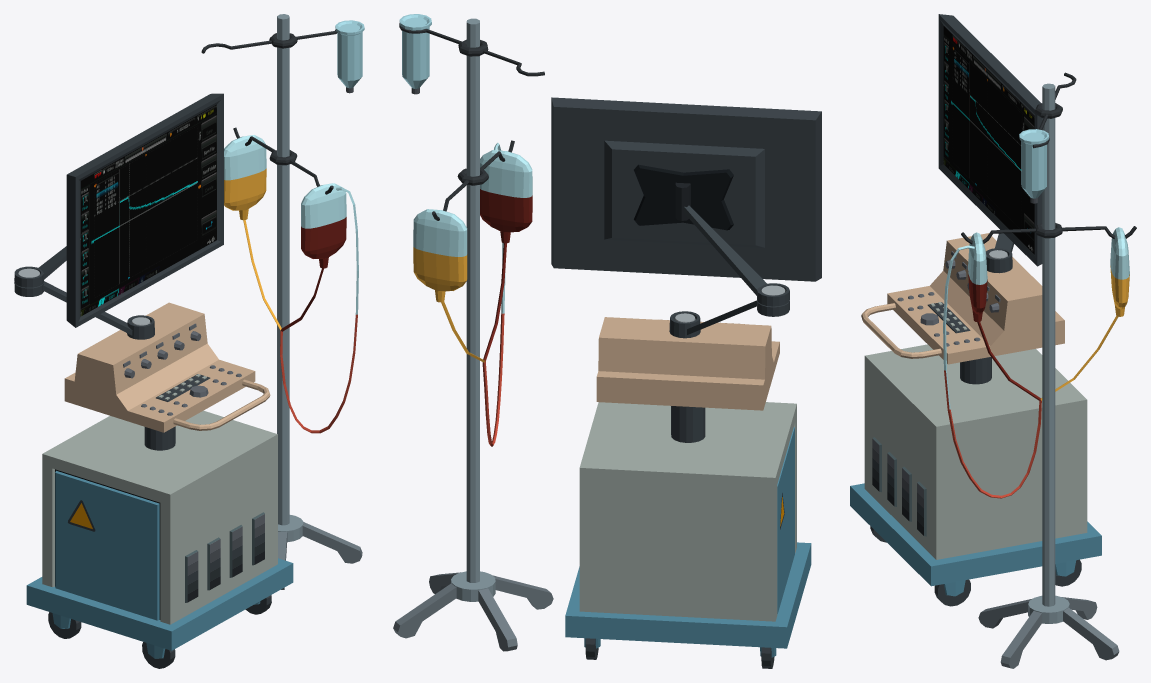
Rendered from medical.glb.
3 renders of one model, left to right at view 1: azimuth 30°, elevation 25°; view 2: azimuth 150°, elevation 25°; view 3: azimuth 270°, elevation 25°, orthographic. The views are drawn at different scales.
Parts seen in each view (by area): view 1: Cube.007, App_Monitor, Cube.008, Cylinder.026, Cube.006, Cube.052, Cube.018, Vert, Cylinder.027, Cube.017, Cylinder.012, Plane.001 (+4 smaller); view 2: App_Monitor, Cube.007, Cube.008, Cylinder.026, Cube.052, Cube.006, Cylinder.027, Cylinder.013, Vert, Cylinder.012, Cylinder.010, Circle (+2 smaller); view 3: Cube.007, App_Monitor, Cylinder.026, Cube.008, Cube.006, Cube.052, Vert, Cube.018, Cylinder.027, Cube.017, Circle.001, Plane.001 (+3 smaller).
Boxes of the visible parts, left/top/right/bottom form: Cube.007: left=42, top=410, right=277, bottom=624; App_Monitor: left=66, top=93, right=223, bottom=327; Cube.008: left=64, top=302, right=255, bottom=432; Cylinder.026: left=277, top=14, right=362, bottom=589; Cube.006: left=26, top=558, right=293, bottom=650; Cube.052: left=224, top=135, right=346, bottom=268; Cube.018: left=185, top=512, right=264, bottom=602; Vert: left=243, top=187, right=358, bottom=433; Cylinder.027: left=335, top=20, right=364, bottom=93; Cube.017: left=48, top=595, right=271, bottom=668; Cylinder.012: left=14, top=281, right=154, bottom=339; Plane.001: left=173, top=379, right=270, bottom=430; App_Monitor: left=551, top=97, right=821, bottom=281; Cube.007: left=579, top=402, right=796, bottom=621; Cube.008: left=596, top=317, right=779, bottom=410; Cylinder.026: left=393, top=18, right=553, bottom=651; Cube.052: left=413, top=150, right=532, bottom=302; Cube.006: left=565, top=542, right=811, bottom=648; Cylinder.027: left=399, top=14, right=431, bottom=94; Cylinder.013: left=683, top=205, right=789, bottom=306; Vert: left=441, top=143, right=506, bottom=446; Cylinder.012: left=669, top=300, right=789, bottom=338; Cylinder.010: left=671, top=406, right=705, bottom=442; Circle: left=399, top=23, right=544, bottom=76; Cube.007: left=864, top=344, right=1087, bottom=559; App_Monitor: left=938, top=14, right=1042, bottom=266; Cylinder.026: left=978, top=83, right=1119, bottom=668; Cube.008: left=887, top=233, right=1064, bottom=364; Cube.006: left=850, top=483, right=1101, bottom=586; Cube.052: left=968, top=227, right=1129, bottom=321; Vert: left=943, top=245, right=1118, bottom=498; Cube.018: left=872, top=437, right=926, bottom=536; Cylinder.027: left=1019, top=129, right=1048, bottom=203; Cube.017: left=870, top=526, right=1081, bottom=606; Circle.001: left=961, top=223, right=1136, bottom=244; Plane.001: left=861, top=303, right=941, bottom=358.
Size of the model in its own units: 0.1279 by 0.1899 by 0.0889.
2 materials, 2 textured.
